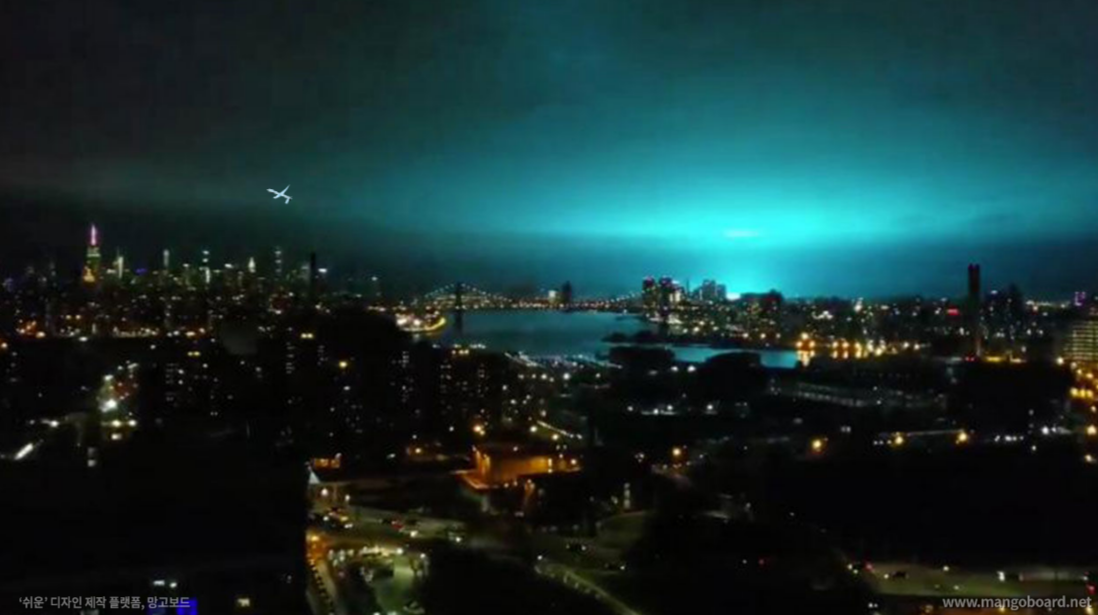military drone: (265, 183, 293, 204)
